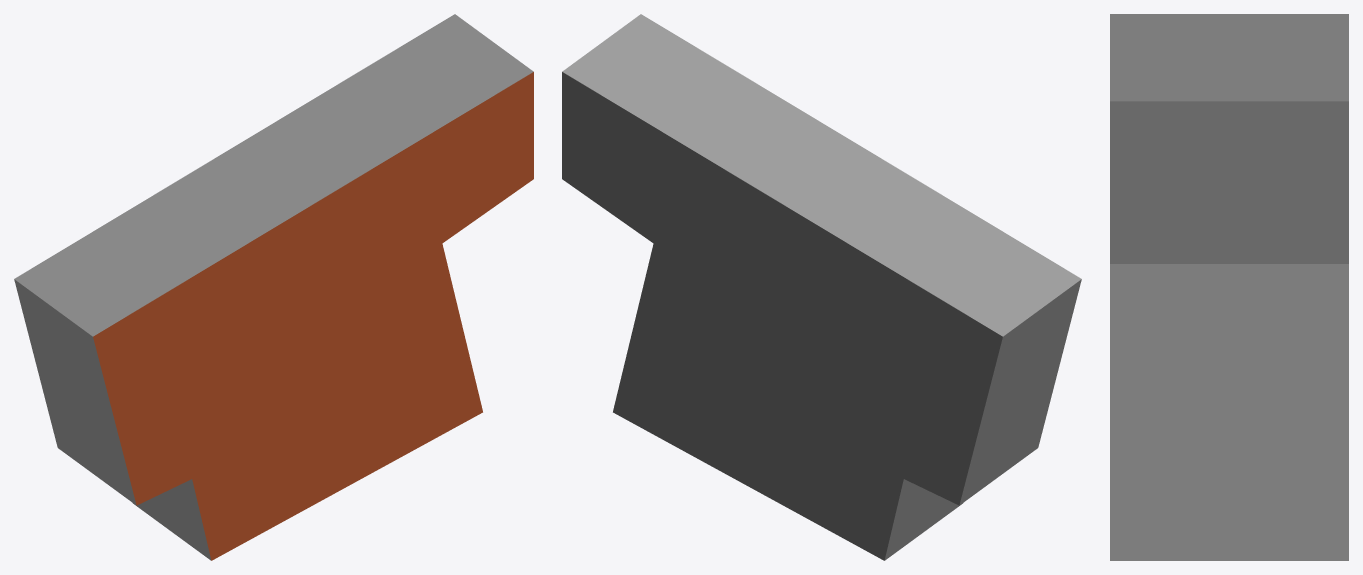
Rendered from construction_6370_assumed_A_Casa_h6m.obj.
3 renders of one model, left to right at view 1: azimuth 30°, elevation 25°; view 2: azimuth 150°, elevation 25°; view 3: azimuth 270°, elevation 25°, orthographic. The views are drawn at different scales.
Parts seen in each view (by area): view 1: construction_6370_assumed_A_Casa; view 2: construction_6370_assumed_A_Casa; view 3: construction_6370_assumed_A_Casa.
Part boxes in pixels (x1=…): construction_6370_assumed_A_Casa: x1=14, y1=14, x2=533, y2=560; construction_6370_assumed_A_Casa: x1=562, y1=14, x2=1081, y2=560; construction_6370_assumed_A_Casa: x1=1110, y1=14, x2=1348, y2=560.
Bounding box in the file's own units: 19.36 × 17.23 × 6.
